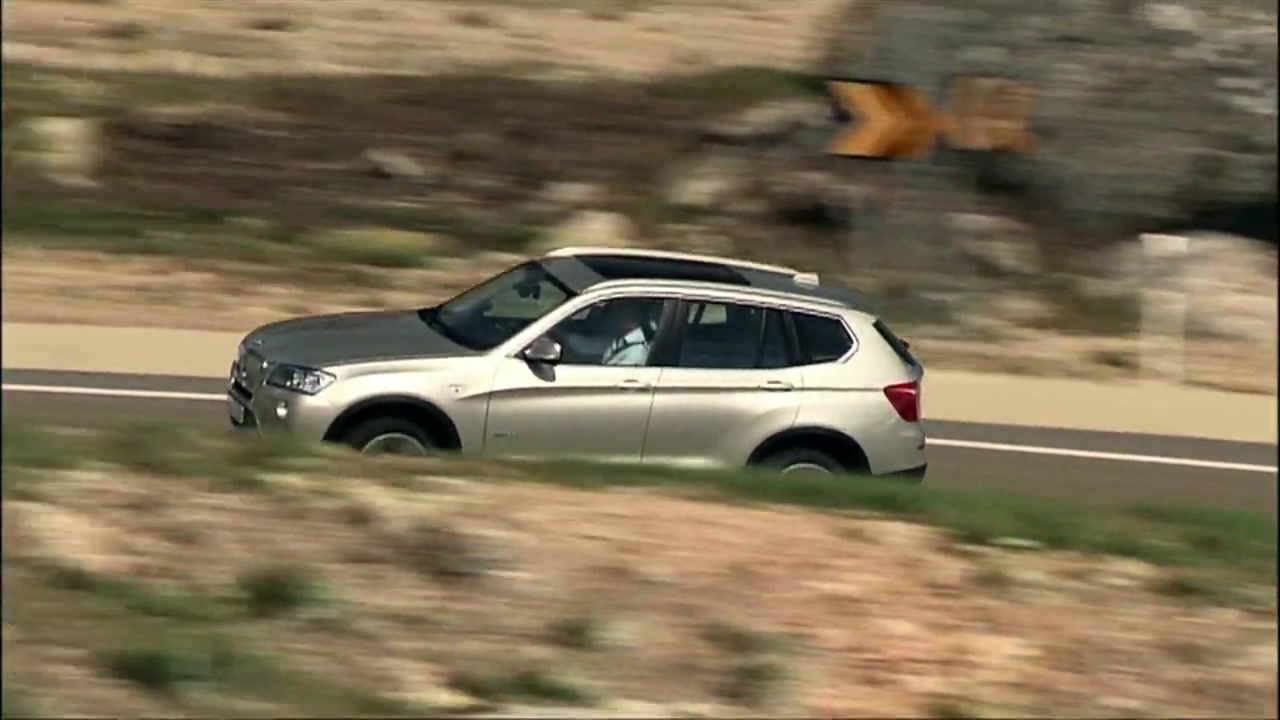car: (234, 246, 930, 499)
